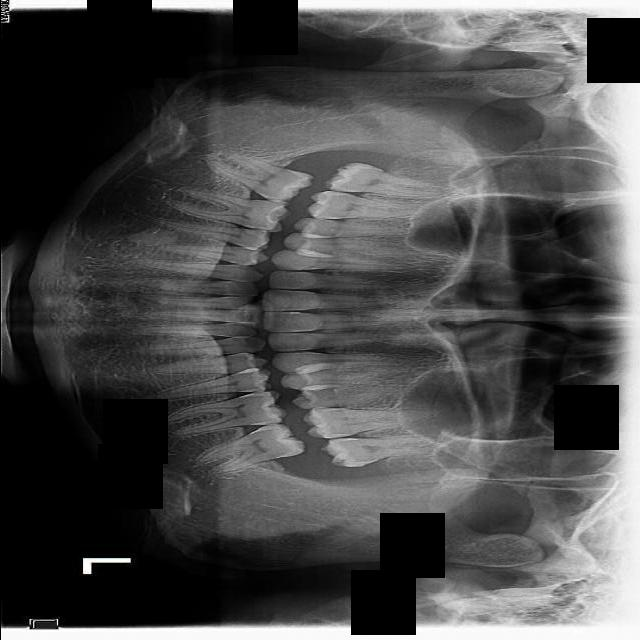Sterngold Implant: (248, 224, 268, 232), (253, 405, 265, 411)
